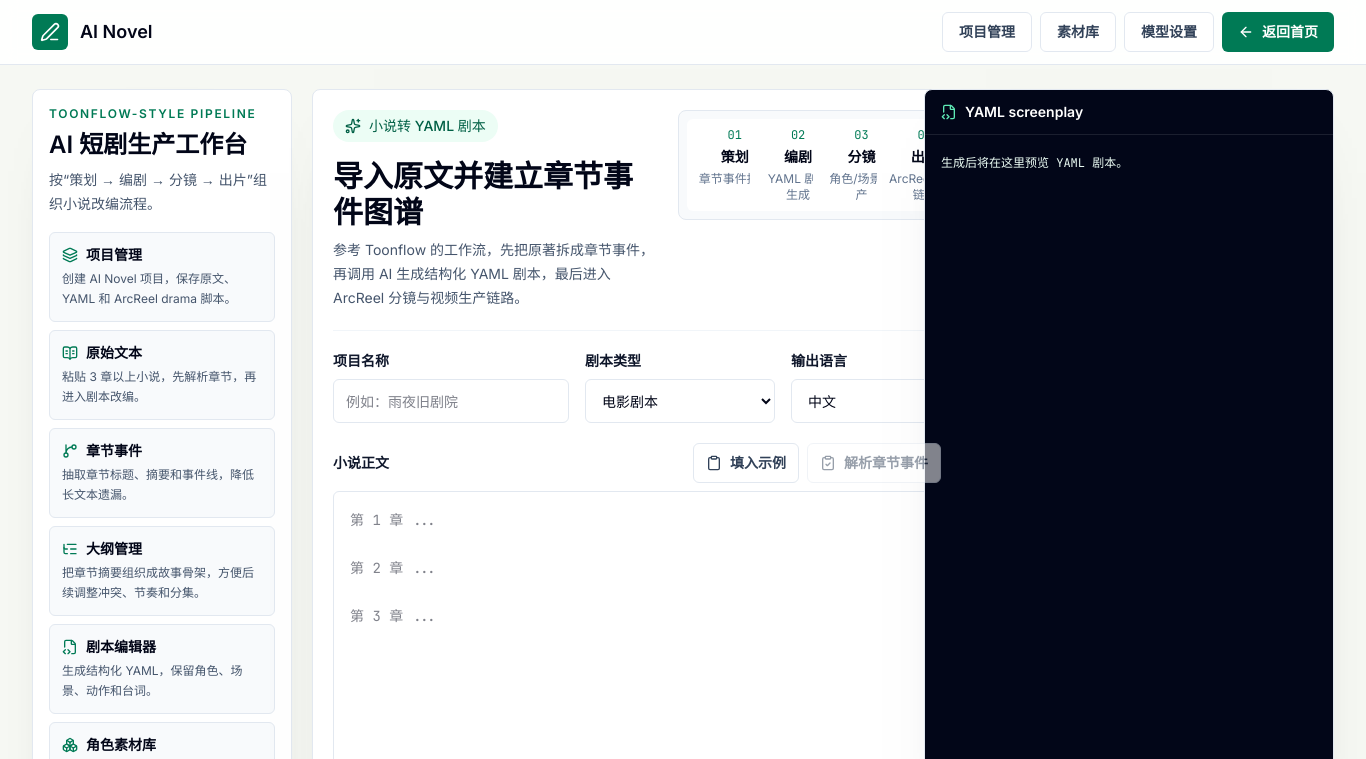
AINovelCreatePage › extracts chapter events through the AI Novel backend before generation
This screenshot has width=1366, height=759.
Type "雨夜旧剧院" into the field labelled "项目名称" at (451, 401), box [333,379,569,423]
(page scrolled)
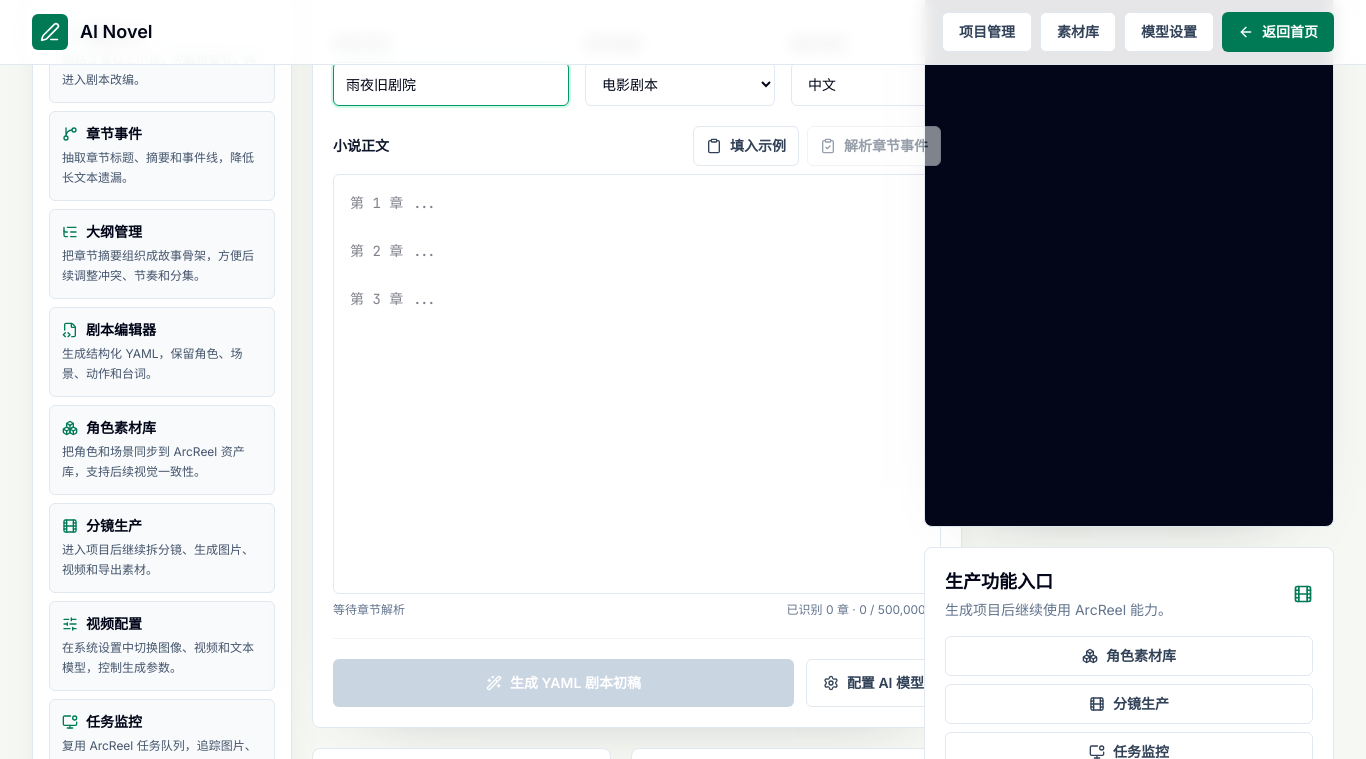
Type "第 1 章 雨夜钥匙 林澈收到一封信。 第 2 章 旧剧院 许岚陪他推开剧院大门。 第 3 章 舞台对峙 顾衣要求他交出钥匙。" into the text box labelled "小说正文" at (637, 384), box [333,174,941,594]
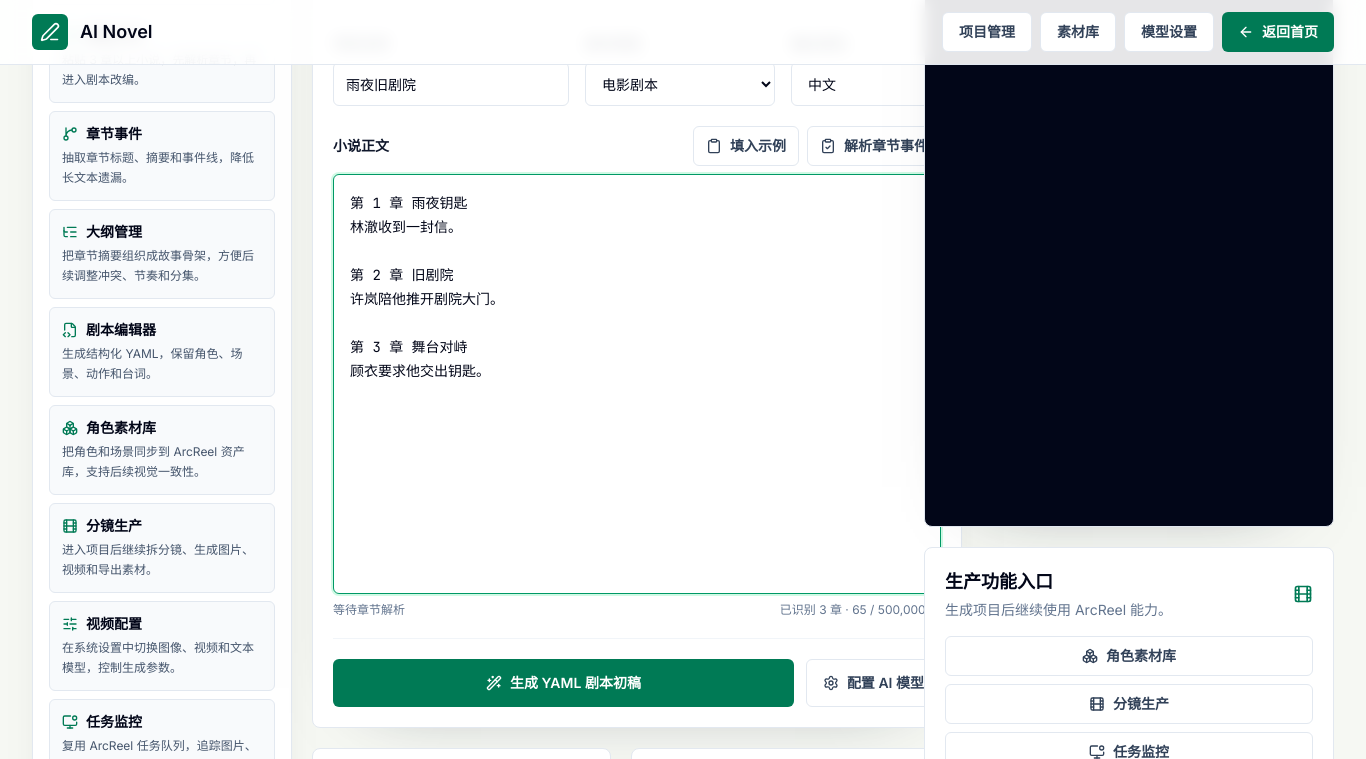
Click the button "解析章节事件" at (874, 146), box [807,126,941,166]
(page scrolled)
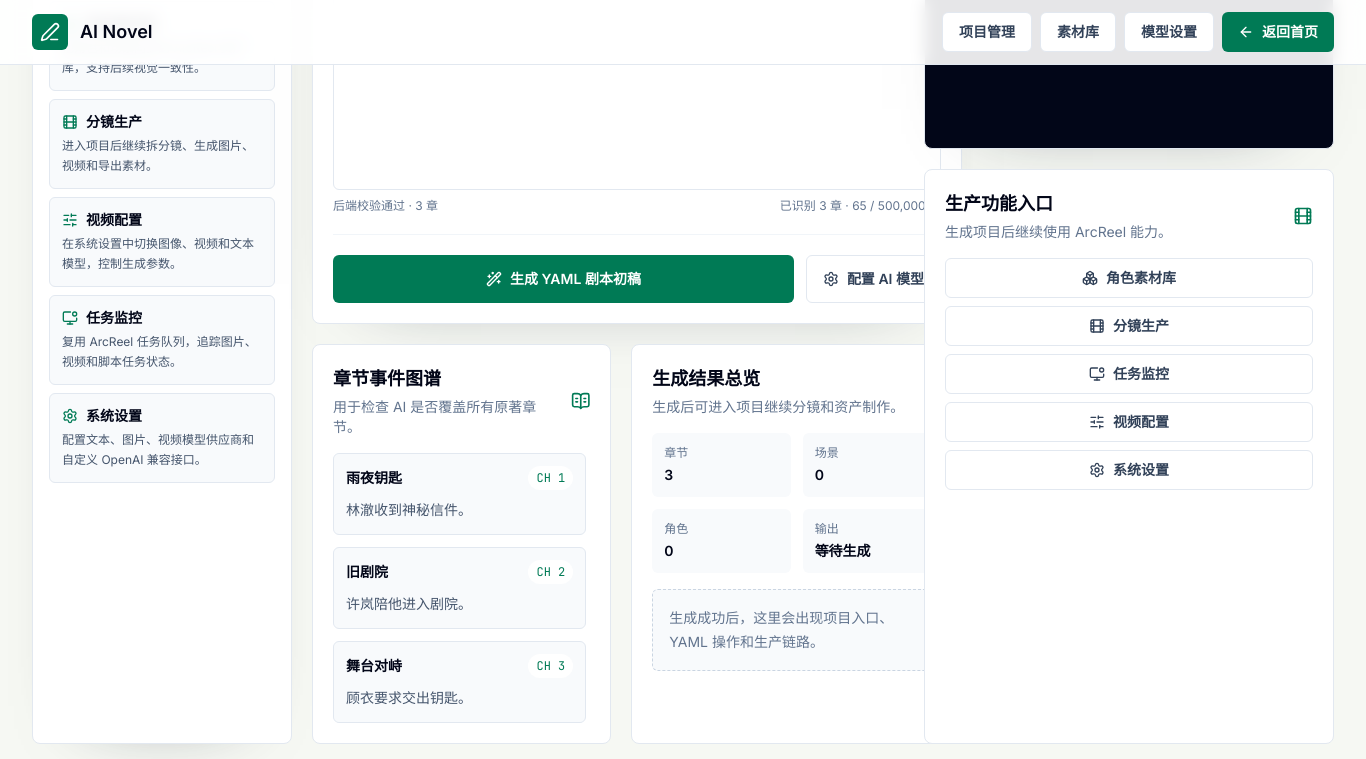
Result: the text "后端校验通过 · 3 章" is shown at [333,198,438,214]
Result: the heading "雨夜钥匙" is shown at [346,468,402,488]
